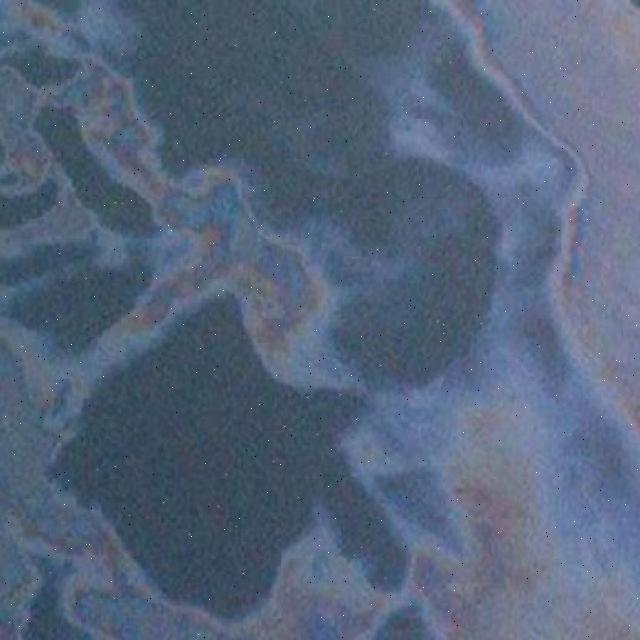oil spill: (0, 1, 417, 640), (371, 1, 640, 640)
